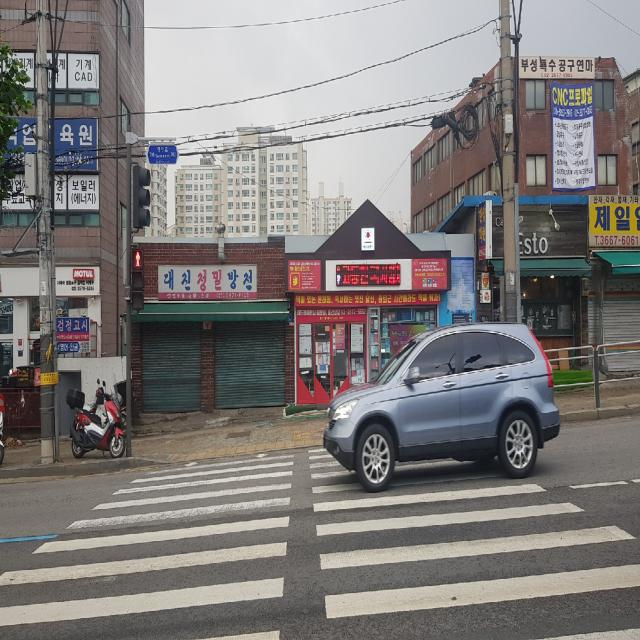빨간불: (130, 247, 144, 312)
횡단보도: (0, 451, 640, 640)
